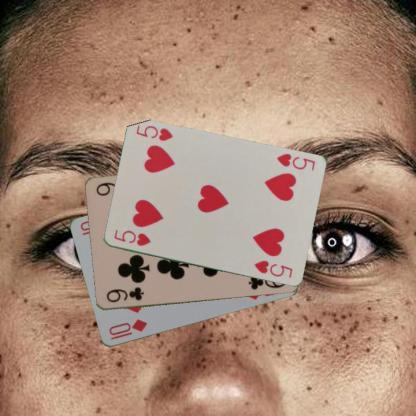10d: (106, 316, 148, 341)
5h: (274, 151, 316, 172), (111, 227, 152, 247)
9c: (103, 285, 145, 304)
